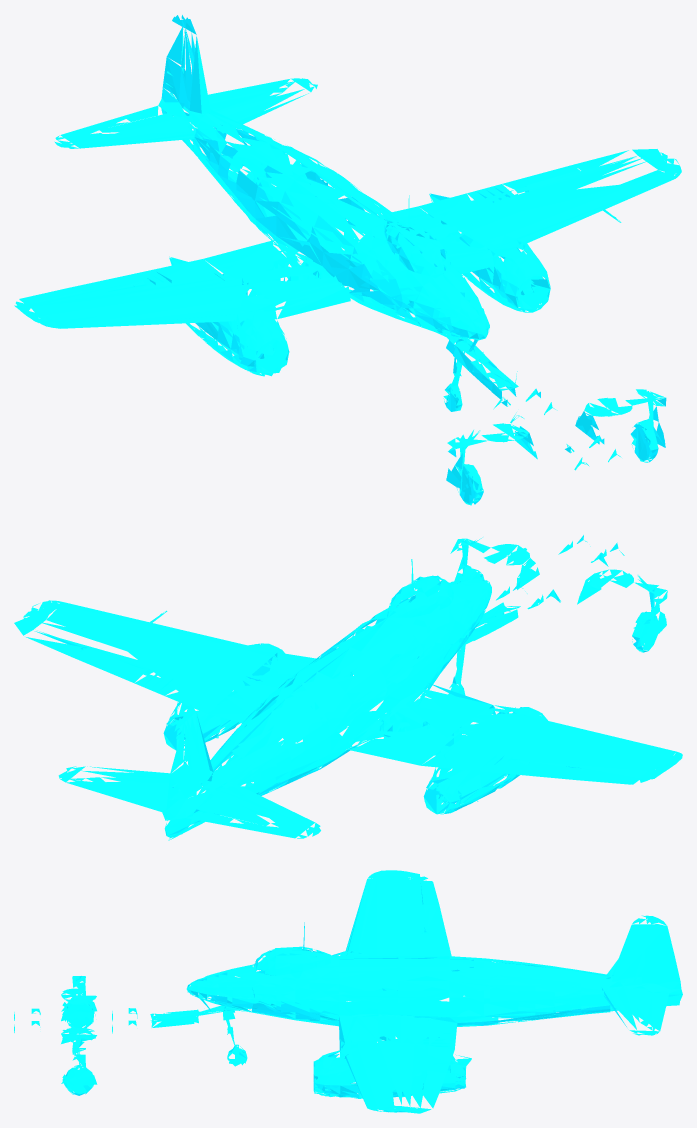
The model's file is PJAD121.glb.
3 views of the same model, one above another, from view 1: azimuth 30°, elevation 25°; view 2: azimuth 150°, elevation 25°; view 3: azimuth 270°, elevation 25° (orthographic). The views are drawn at different scales.
Visible parts, largest first — view 1: misc; view 2: misc; view 3: misc.
Part boxes in pixels (x1,y1,x2,y2): misc: (14,15,681,505); misc: (14,535,682,840); misc: (14,870,682,1113).
Size of the model in its own units: 1 by 0.2918 by 1.17.
